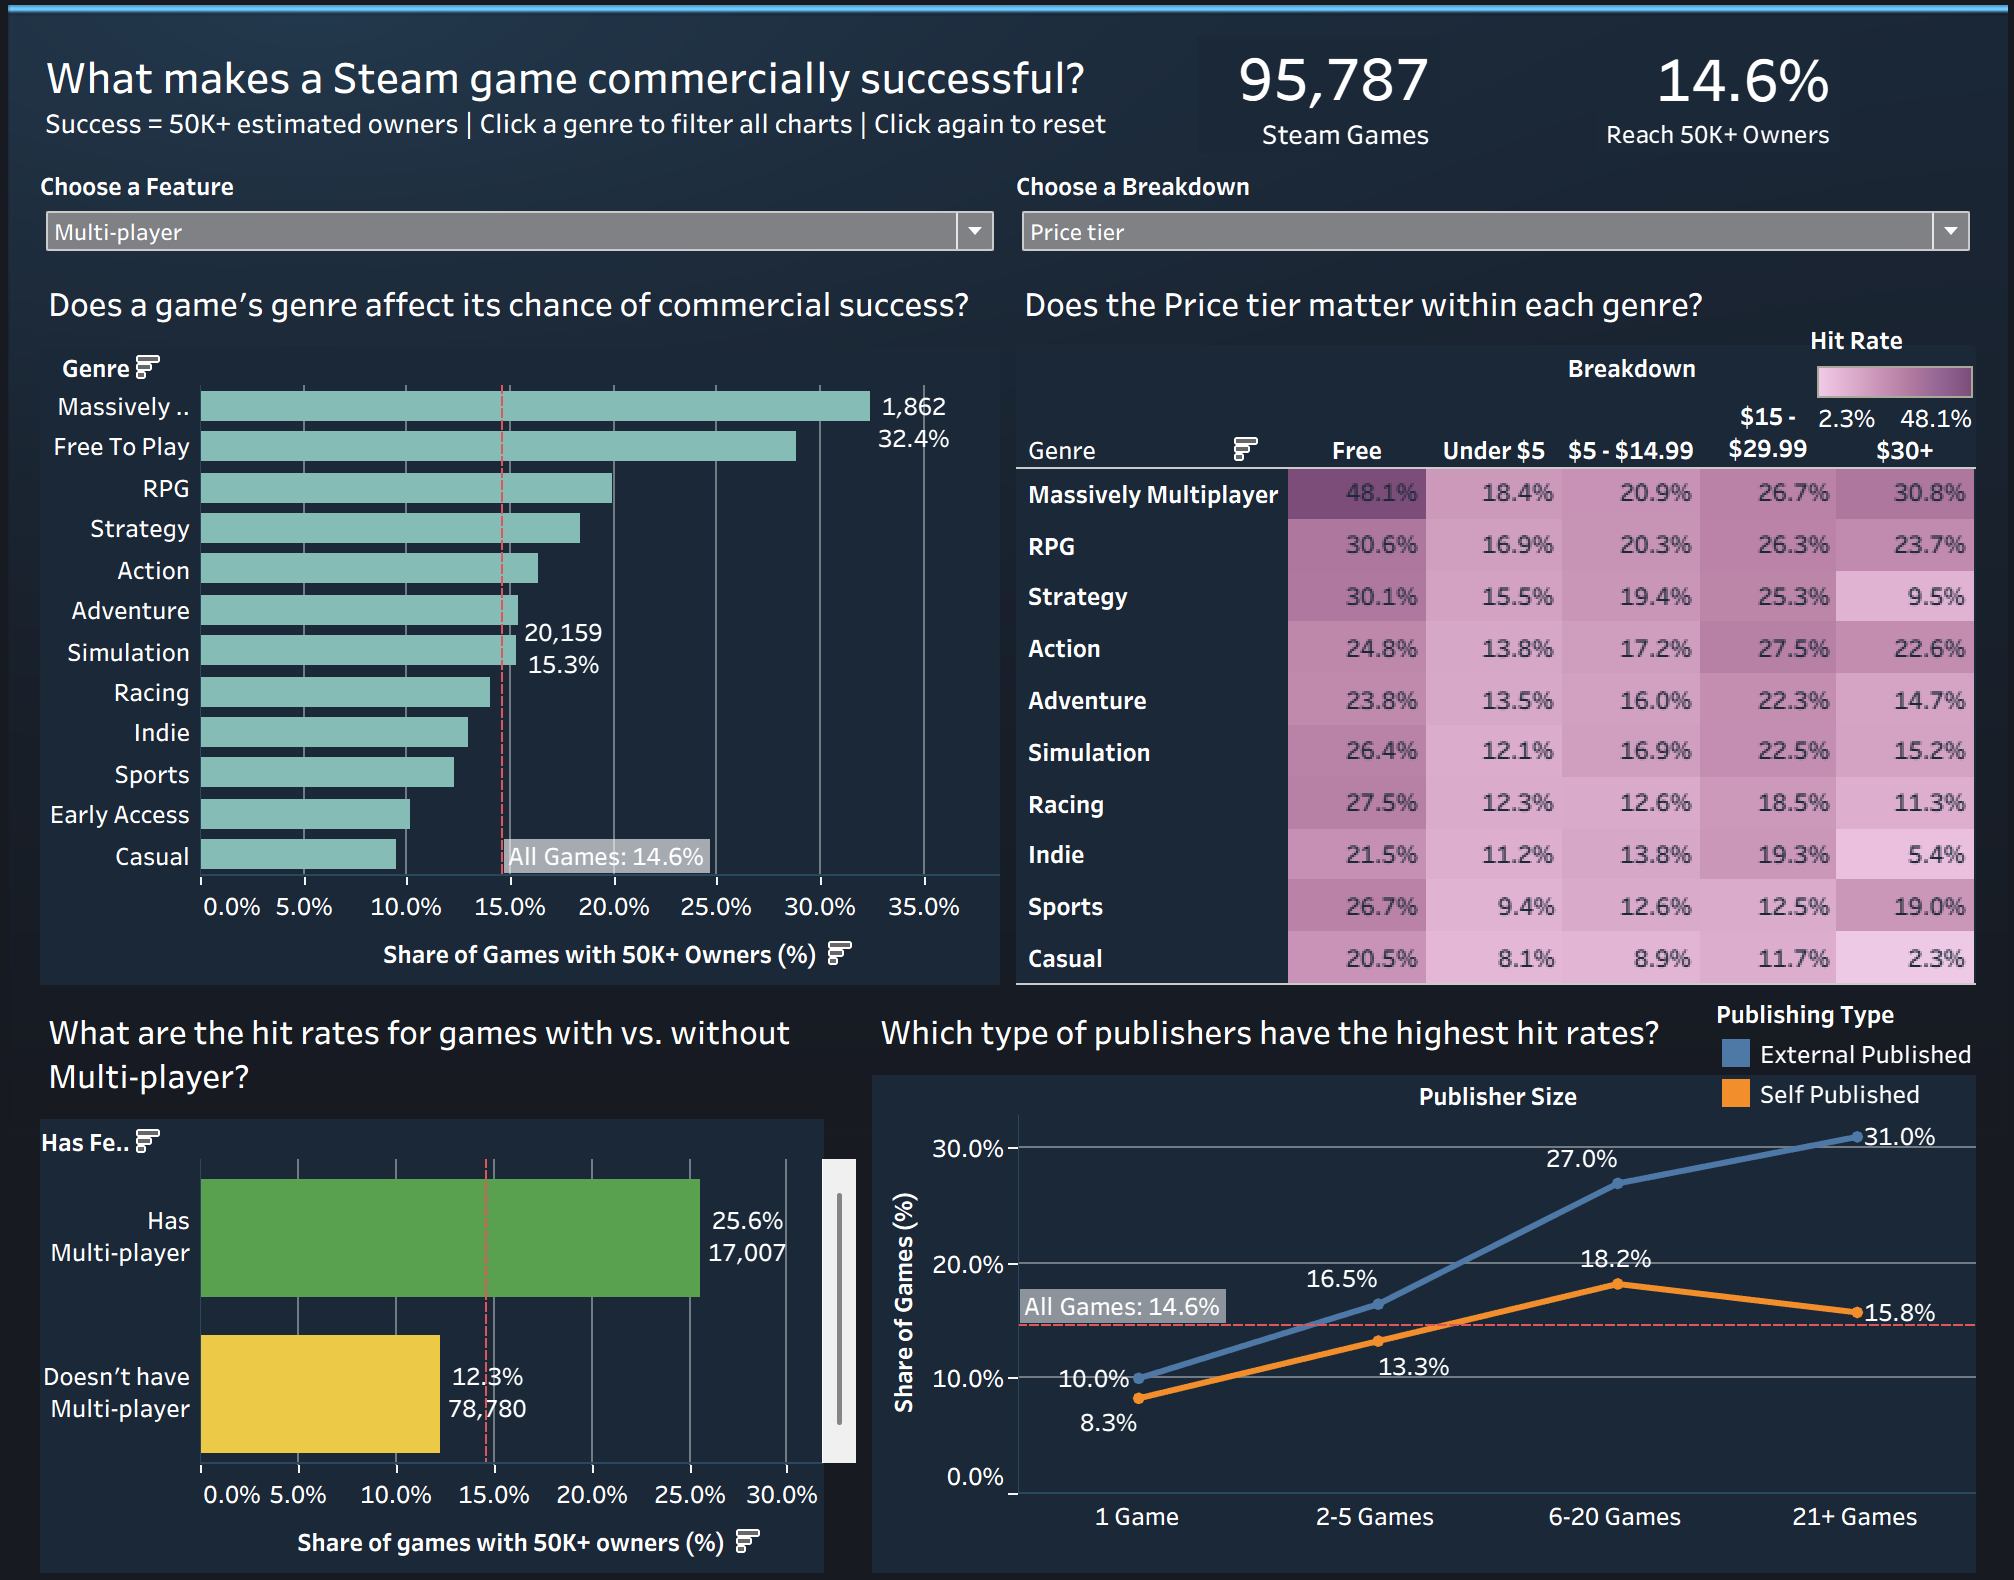

What the dashboard file says about the page in this screenshot:
{"tool":"tableau","page":{"name":"Steam Performance Dashboard","canvas":[1600,900],"ordinal":0},"visuals":[{"type":"image","param":"Image/steam_dashboard_bg.png","box":[0,0,1600,900]},{"type":"legend","title":"D-Q3","param":"[federated.12hhkun1hj3d031dkvtxg0rlg7yn].[none:is_free:nk]","box":[1432,8,160,66]},{"type":"text","box":[12,12,735,66]},{"type":"worksheet","title":"# of Games","mark":"Automatic","box":[747,12,200,66]},{"type":"worksheet","title":"# of Genres","mark":"Automatic","box":[947,12,200,66]},{"type":"worksheet","title":"# of Features","mark":"Automatic","box":[1147,12,220,66]},{"type":"worksheet","title":"Overall Hit Rate %","mark":"Automatic","box":[1367,12,209,66]},{"type":"legend","title":"D-Q4","param":"[federated.12hhkun1hj3d031dkvtxg0rlg7yn].[none:Calculation_2168839003660290:nk]","box":[1432,74,160,66]},{"type":"parameter","param":"[Parameters].[Parameter 2168839003144193]","box":[12,78,525.3,52]},{"type":"parameter","param":"[Parameters].[Parameter 2804082612989953]","box":[537.3,78,525.3,52]},{"type":"filter","title":"D-Q3","param":"[federated.12hhkun1hj3d031dkvtxg0rlg7yn].[none:price_capped:qk]","box":[1062.7,78,525.3,52]},{"type":"worksheet","title":"D-Q1","mark":"Automatic","rows":["owners_range"],"cols":["steam_clean.csv_FA9DB04033D444859DC21D36041F080C"],"box":[12,130,788,363.9]},{"type":"worksheet","title":"D-Q2","mark":"Automatic","rows":["genre"],"cols":["Success 50K (copy)_2514635042177025"],"box":[800,130,788,363.9]},{"type":"legend","title":"D-Q1","param":"[federated.12hhkun1hj3d031dkvtxg0rlg7yn].[none:Calculation_2514635033063424:nk]","box":[620,373,144,58]},{"type":"worksheet","title":"D-Q3","mark":"Automatic","rows":["Success 50K (copy)_2514635042177025"],"cols":["Calculation_2168838993494016"],"box":[12,494,484,394]},{"type":"worksheet","title":"D-Q4","mark":"Automatic","rows":["Calculation_2168839003660290"],"cols":["Success 50K (copy)_2514635042177025"],"box":[496,494,613,181]},{"type":"worksheet","title":"D-Q6","mark":"Square","rows":["genre"],"cols":["Calculation_2804082613788675"],"box":[1109,494,479,394]},{"type":"legend","title":"D-Q6","param":"[federated.12hhkun1hj3d031dkvtxg0rlg7yn].[avg:Success 50K (copy)_251463504217702","box":[1467,496,110,76]},{"type":"legend","title":"D-Q5","param":"[federated.12hhkun1hj3d031dkvtxg0rlg7yn].[none:Calculation_2168839010418692:nk]","box":[957,654,140,58]},{"type":"worksheet","title":"D-Q5","mark":"Line","rows":["Success 50K (copy)_2514635042177025"],"cols":["Calculation_2168839010095107"],"box":[496,675,613,213]}]}

Visuals, with their boxes on the page's 1600x900 design canvas (x1, y1, x2, y2). These are canvas units, not pixel positions in the 2014x1580 screenshot, which may show the page scaled, cropped or inside an application window:
image: Rect(0, 0, 1600, 900)
"D-Q3" legend: Rect(1432, 8, 1592, 74)
text: Rect(12, 12, 747, 78)
"# of Games" worksheet: Rect(747, 12, 947, 78)
"# of Genres" worksheet: Rect(947, 12, 1147, 78)
"# of Features" worksheet: Rect(1147, 12, 1367, 78)
"Overall Hit Rate %" worksheet: Rect(1367, 12, 1576, 78)
"D-Q4" legend: Rect(1432, 74, 1592, 140)
parameter: Rect(12, 78, 537, 130)
parameter: Rect(537, 78, 1063, 130)
"D-Q3" filter: Rect(1063, 78, 1588, 130)
"D-Q1" worksheet: Rect(12, 130, 800, 494)
"D-Q2" worksheet: Rect(800, 130, 1588, 494)
"D-Q1" legend: Rect(620, 373, 764, 431)
"D-Q3" worksheet: Rect(12, 494, 496, 888)
"D-Q4" worksheet: Rect(496, 494, 1109, 675)
"D-Q6" worksheet (Square marks): Rect(1109, 494, 1588, 888)
"D-Q6" legend: Rect(1467, 496, 1577, 572)
"D-Q5" legend: Rect(957, 654, 1097, 712)
"D-Q5" worksheet (Line marks): Rect(496, 675, 1109, 888)
